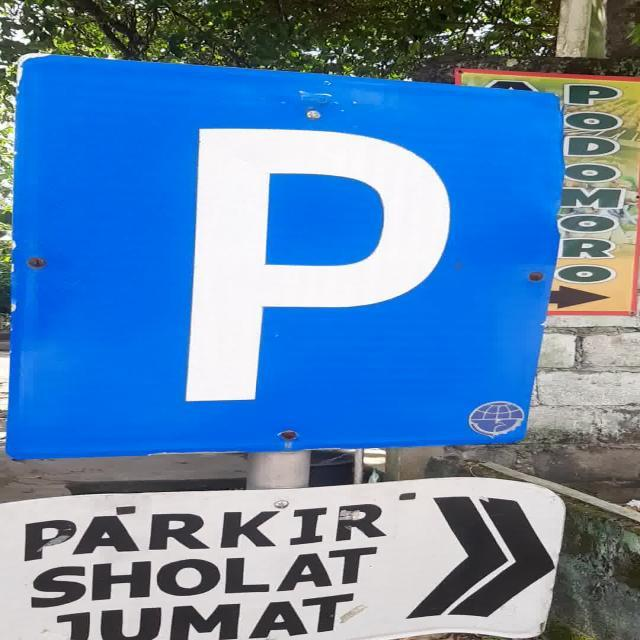Tempat Parkir: (9, 53, 563, 460)
